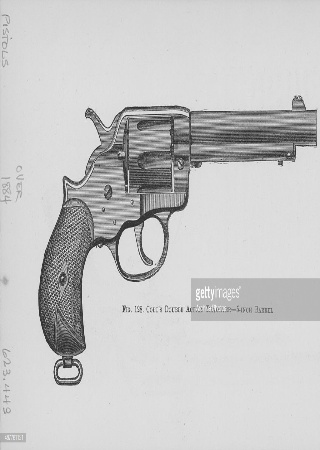handgun: (39, 89, 320, 385)
